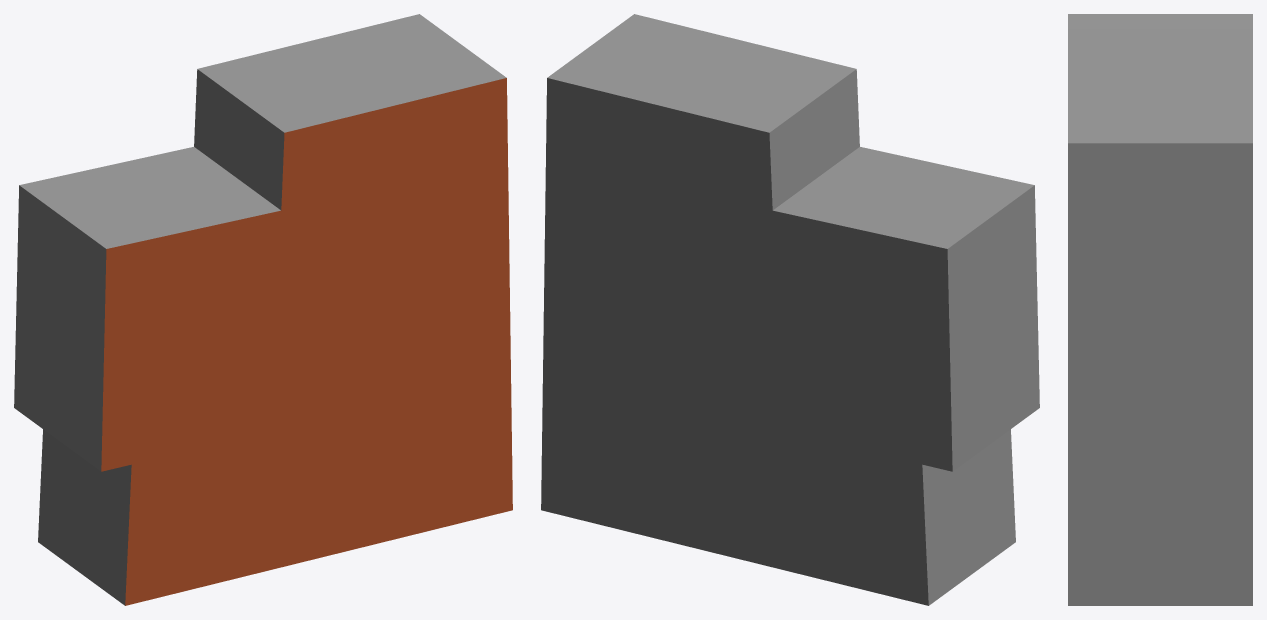
The model's file is construction_5918_assumed_A_Casa_h6m.obj.
The picture shows the model from 3 angles, left to right: view 1: azimuth 30°, elevation 25°; view 2: azimuth 150°, elevation 25°; view 3: azimuth 270°, elevation 25°; orthographic projection. The views are drawn at different scales.
Visible parts, largest first — view 1: construction_5918_assumed_A_Casa; view 2: construction_5918_assumed_A_Casa; view 3: construction_5918_assumed_A_Casa.
Boxes of the visible parts, <box> form: construction_5918_assumed_A_Casa: <box>14,14,512,605</box>; construction_5918_assumed_A_Casa: <box>541,14,1039,605</box>; construction_5918_assumed_A_Casa: <box>1068,14,1252,605</box>.
Size of the model in its own units: 16.34 by 16.5 by 6.
